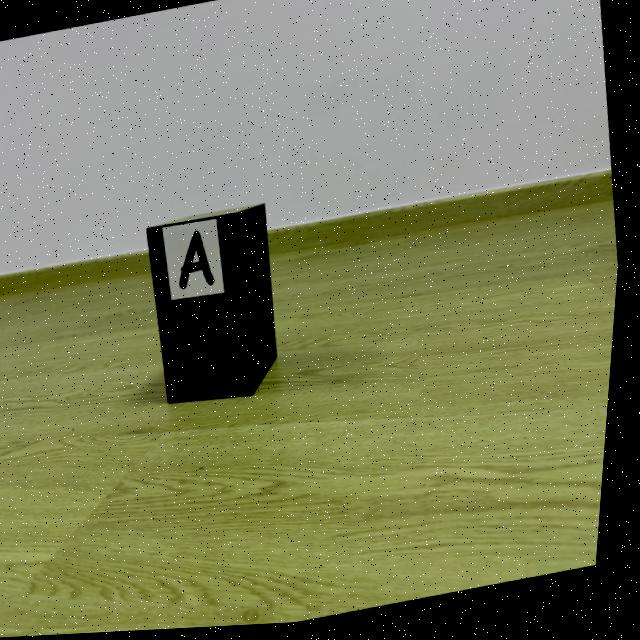A: (184, 233, 219, 291)
